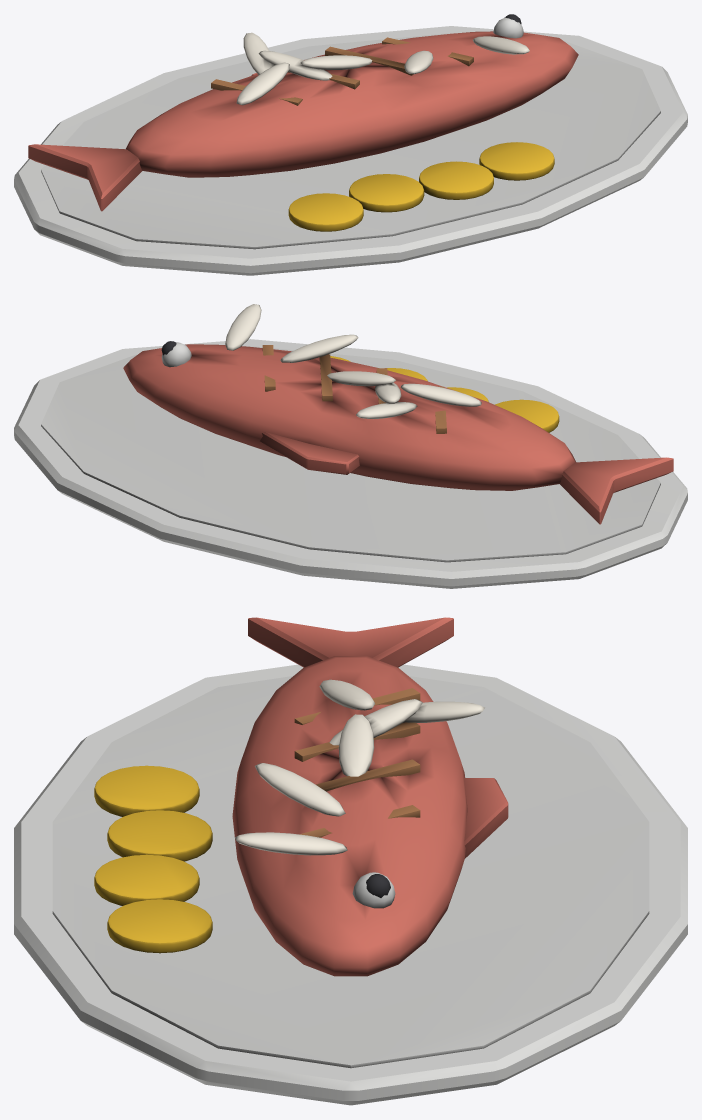
Rendered from meal_fish.glb.
The picture shows the model from 3 angles, top to bottom: view 1: azimuth 30°, elevation 25°; view 2: azimuth 150°, elevation 25°; view 3: azimuth 270°, elevation 25°; orthographic projection. The views are drawn at different scales.
Visible parts, largest first — view 1: PART; view 2: PART; view 3: PART.
Part boxes in pixels (<box>): PART: <box>14,14,687,275</box>; PART: <box>14,304,687,588</box>; PART: <box>14,617,687,1105</box>.
Size of the model in its own units: 0.4073 by 0.066 by 0.2703.
